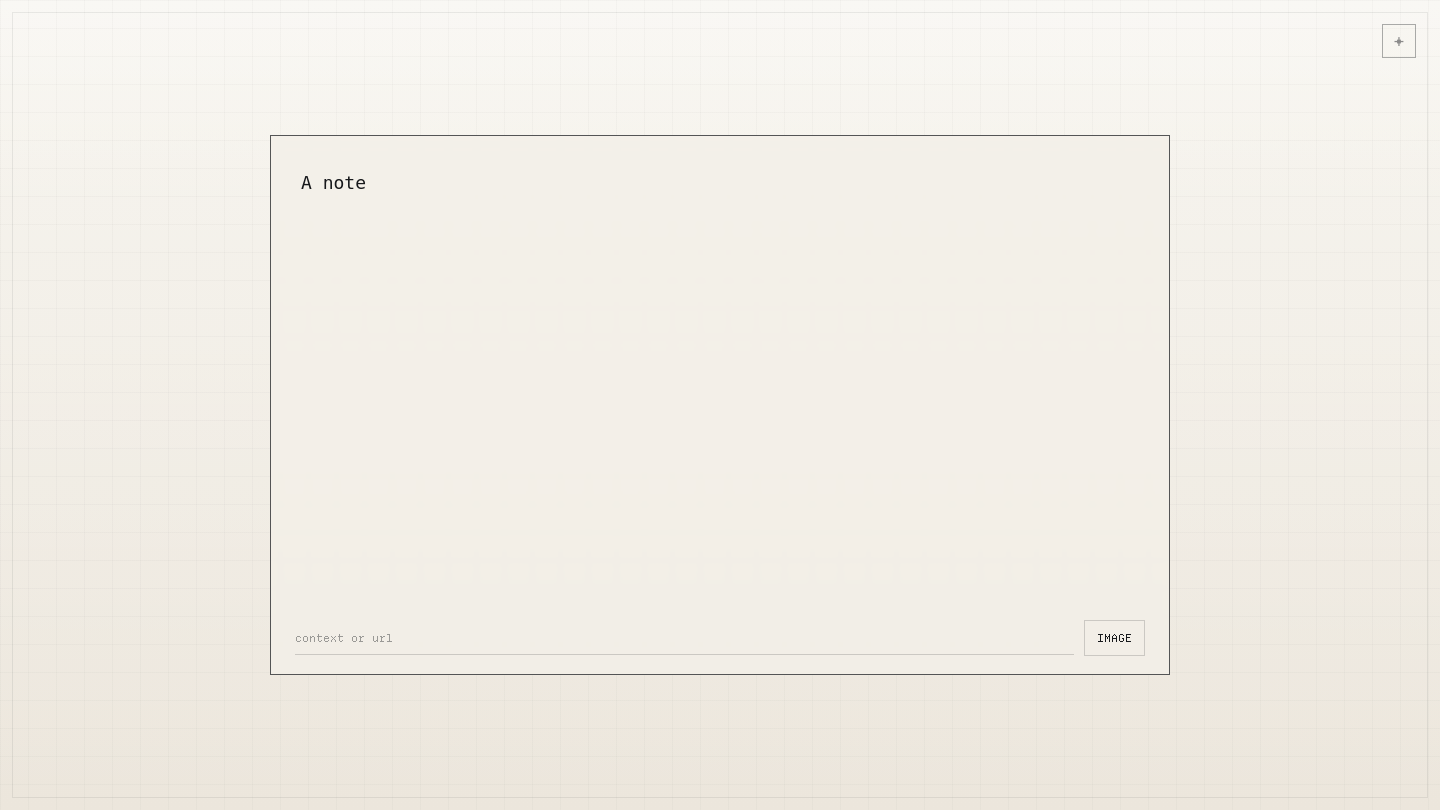
Test: failed save with tauri-style string rejection shows the backend message
This screenshot has width=1440, height=810.
Click the button with aria-label "Add image": (1114, 638) 1084,620 -> 1145,656
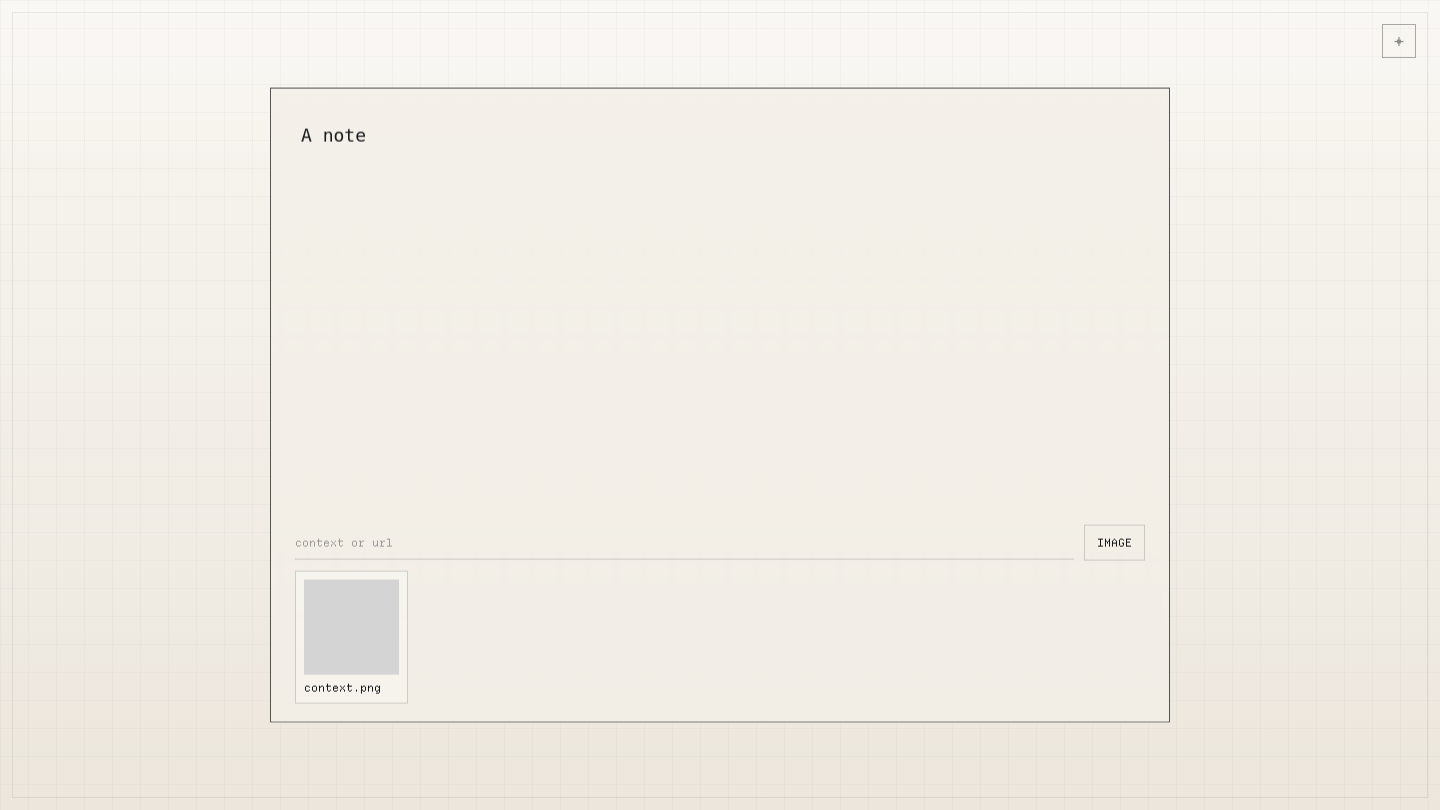
Result: the text "context.png" is shown at 304,680 -> 381,694
Press Enter in the field named "Thought inbox editor", box 301,125 -> 366,146
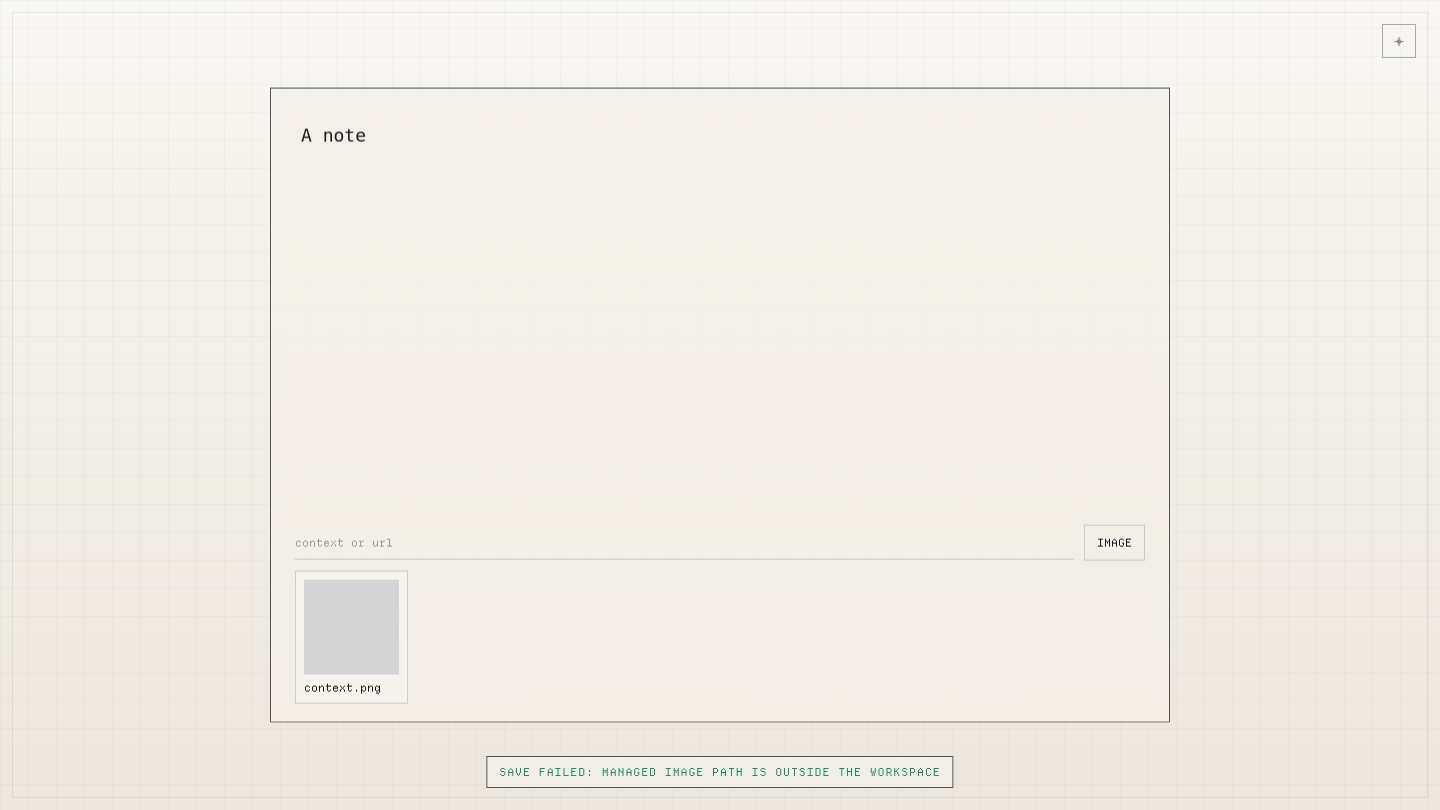
Result: the text "context.png" is shown at 304,680 -> 381,694
Result: the text "save failed: managed image path is outside the workspace" is shown at 486,756 -> 954,788
